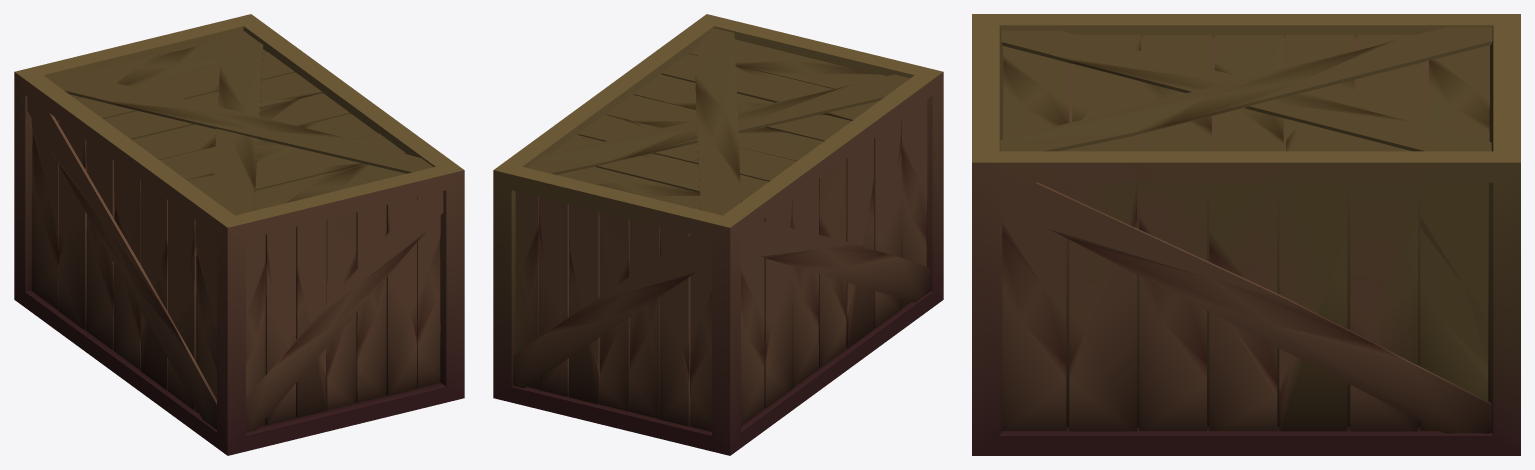
Rendered from LargeCrate.fbx.
The picture shows the model from 3 angles, left to right: view 1: azimuth 30°, elevation 25°; view 2: azimuth 150°, elevation 25°; view 3: azimuth 270°, elevation 25°; orthographic projection. The views are drawn at different scales.
Visible parts, largest first — view 1: polySurface118; view 2: polySurface118; view 3: polySurface118.
Part boxes in pixels (x1,y1,x2,y2): polySurface118: [14, 14, 464, 455]; polySurface118: [493, 14, 943, 455]; polySurface118: [972, 14, 1520, 455].
Bounding box in the file's own units: 3.95 × 3.64 × 6.17.
